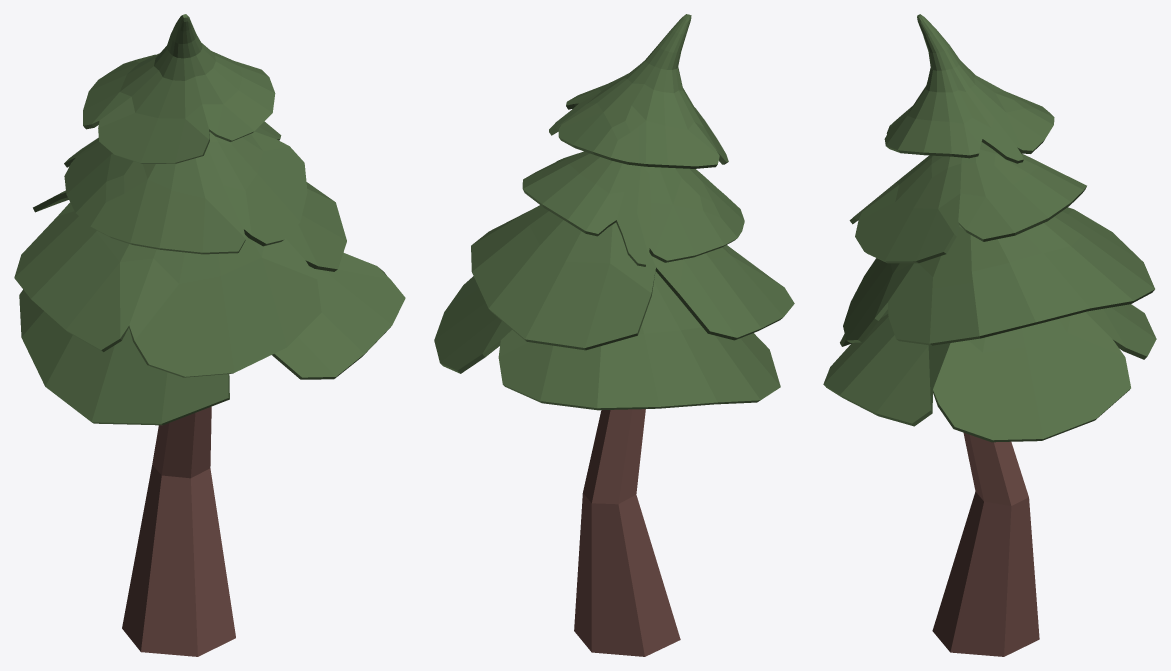
File: pineTree.glb
3 renders of one model, left to right at view 1: azimuth 30°, elevation 25°; view 2: azimuth 150°, elevation 25°; view 3: azimuth 270°, elevation 25°, orthographic. The views are drawn at different scales.
Parts seen in each view (by area): view 1: PineTree_5; view 2: PineTree_5; view 3: PineTree_5.
Boxes of the visible parts, x1,y1,x2,y2 form: PineTree_5: (14, 14, 405, 656); PineTree_5: (434, 14, 794, 656); PineTree_5: (823, 14, 1156, 656).
Size of the model in its own units: 1.47 by 2.69 by 1.34.
